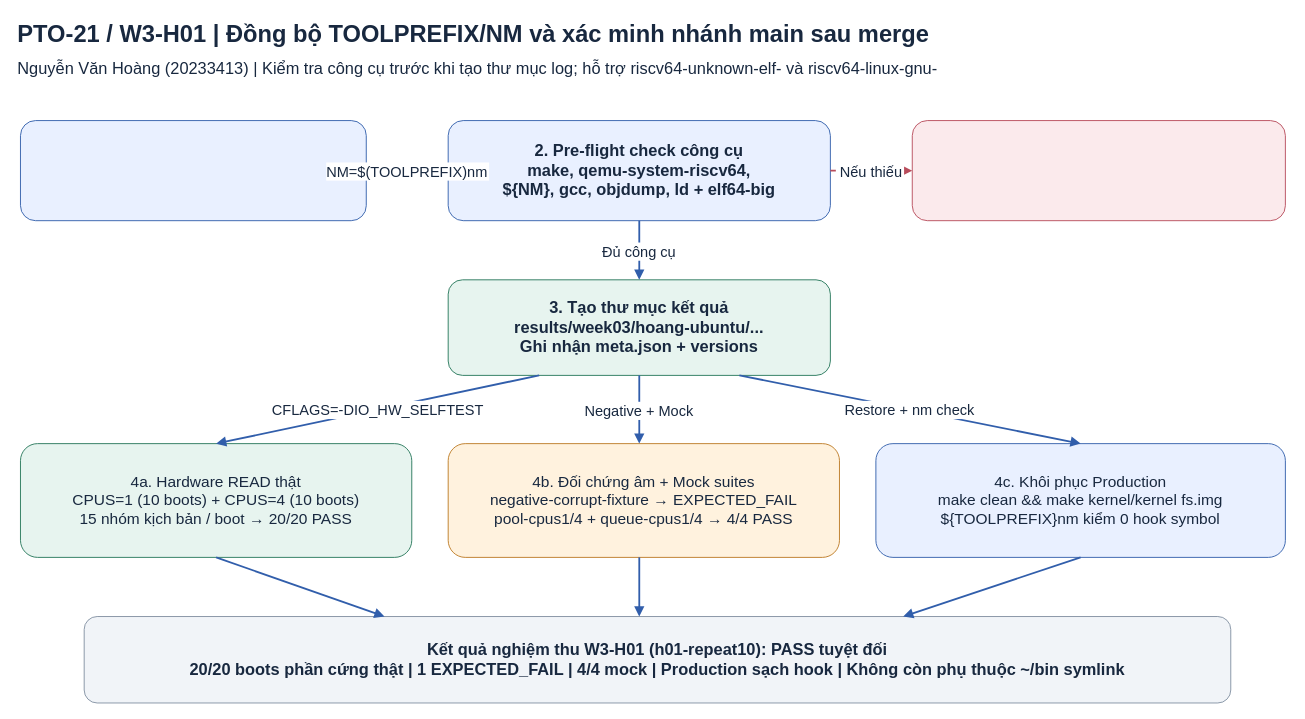
Image size: 1305x719. Some labels were removed from this diagram. Each missing label, with the centre of its shape:
"1. Phân giải TOOLPREFIX --toolprefix | env TOOLPREFIX | make -s print-toolprefix" belongs at [193,170].
"Thiếu binary / sai target: Báo lỗi stderr + exit(2) KHÔNG tạo thư mục results/" belongs at [1098,170].
